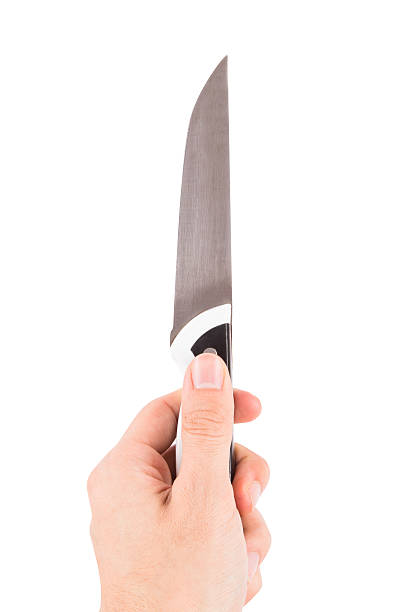knife: (167, 54, 237, 484)
